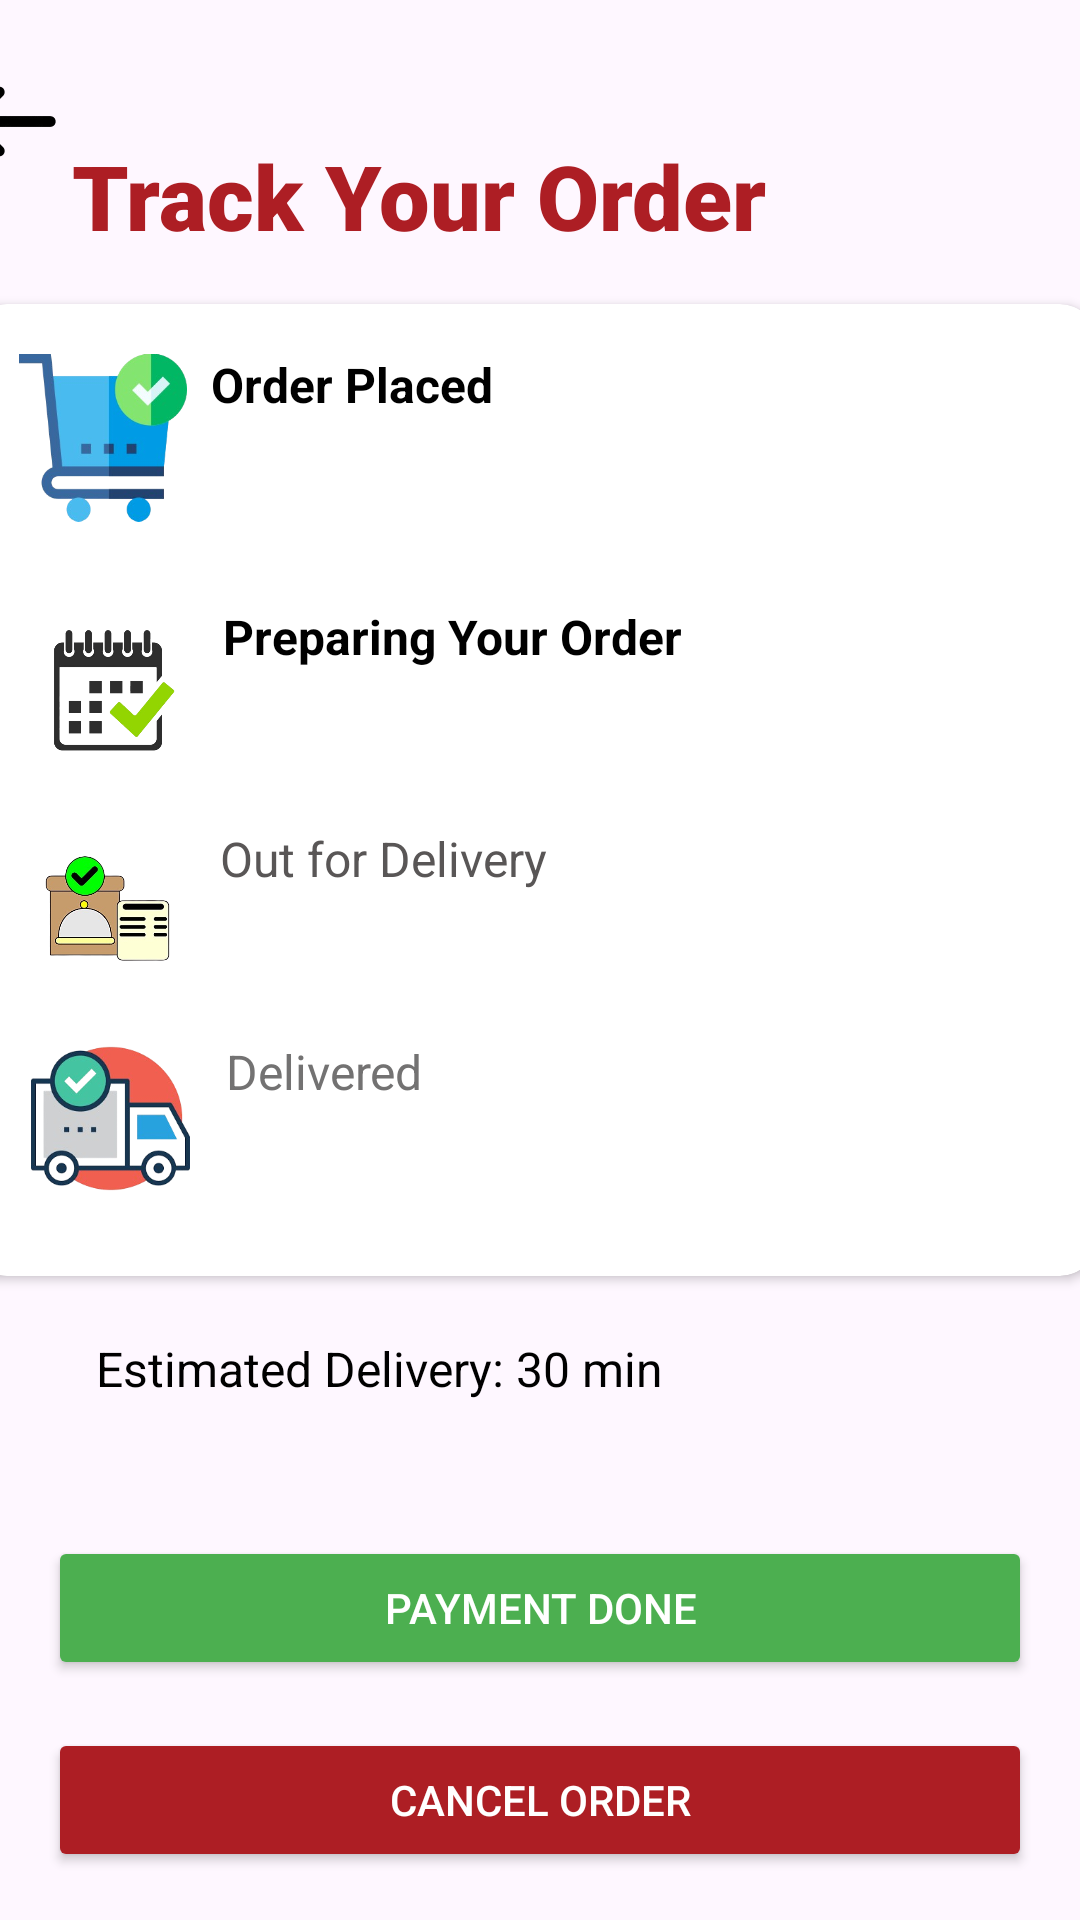

Named icons in this screenshot (1080*1920) and their centers, (x=x, y=y):
oderde: (x=110, y=1118)
oderp: (x=103, y=438)
orderou: (x=107, y=908)
